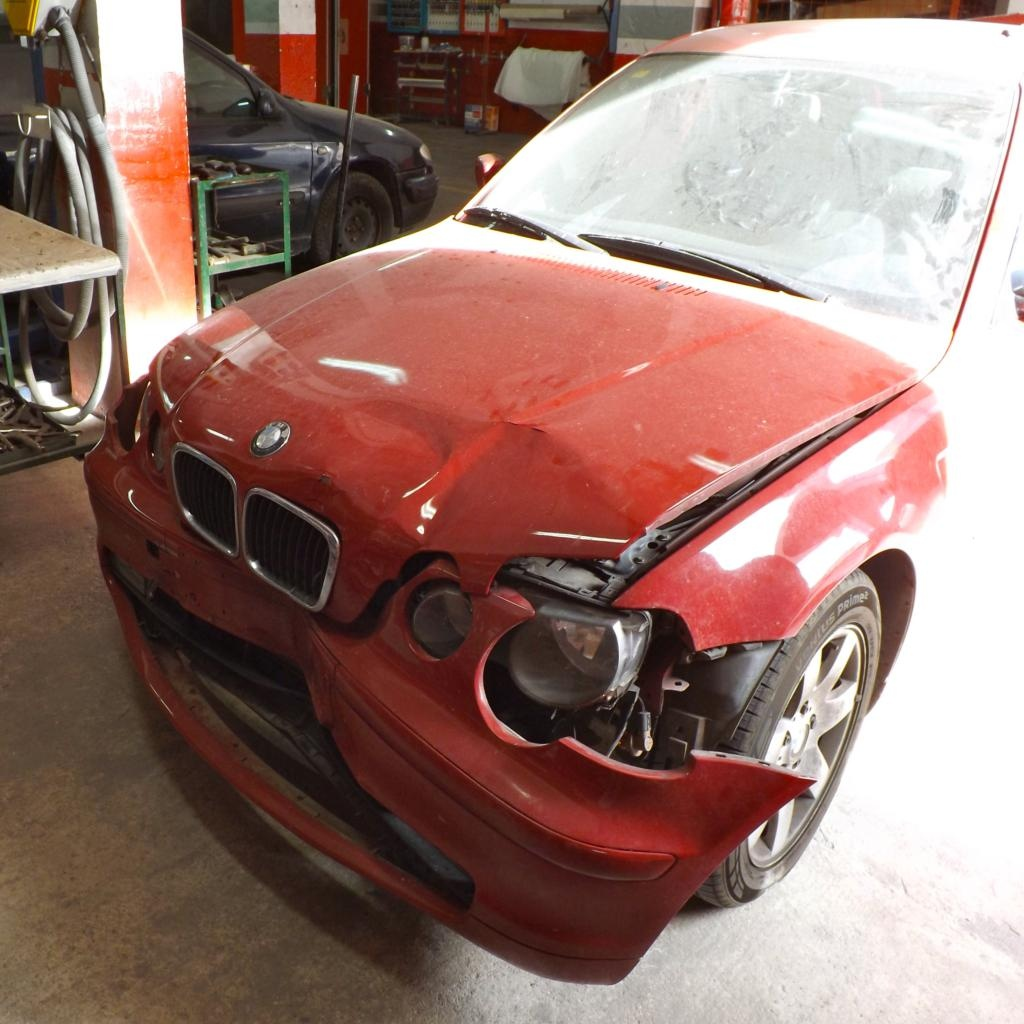Dent: (394, 504, 806, 855), (96, 511, 452, 894), (342, 381, 608, 543)
